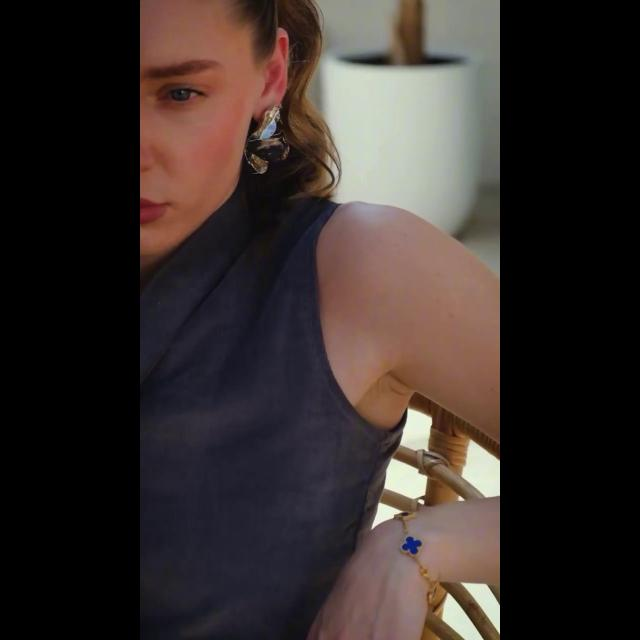ear ring: (250, 102, 286, 152)
